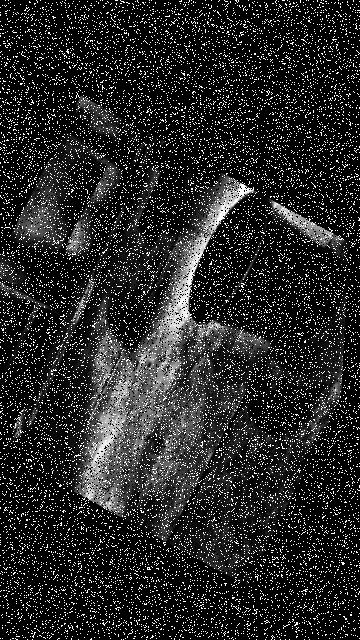pot: (189, 192, 340, 344)
